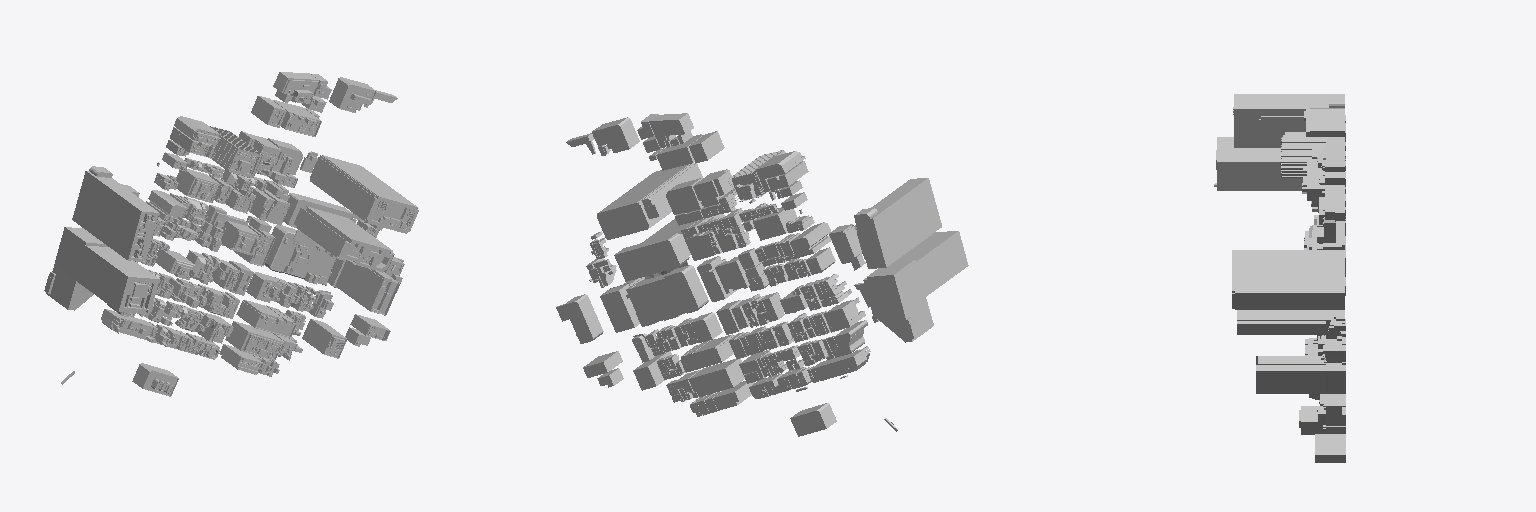
Rendered from 533946114_bldg_6677.obj.
The picture shows the model from 3 angles: view 1: azimuth 30°, elevation 25°; view 2: azimuth 150°, elevation 25°; view 3: azimuth 270°, elevation 25°; orthographic projection.
Size of the model in its own units: 658 by 515 by 209.